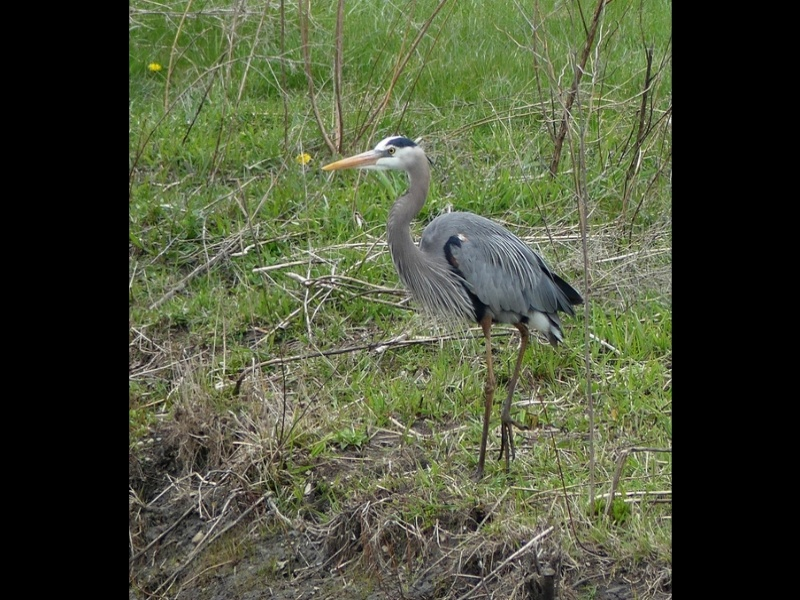heron: (322, 133, 592, 491)
